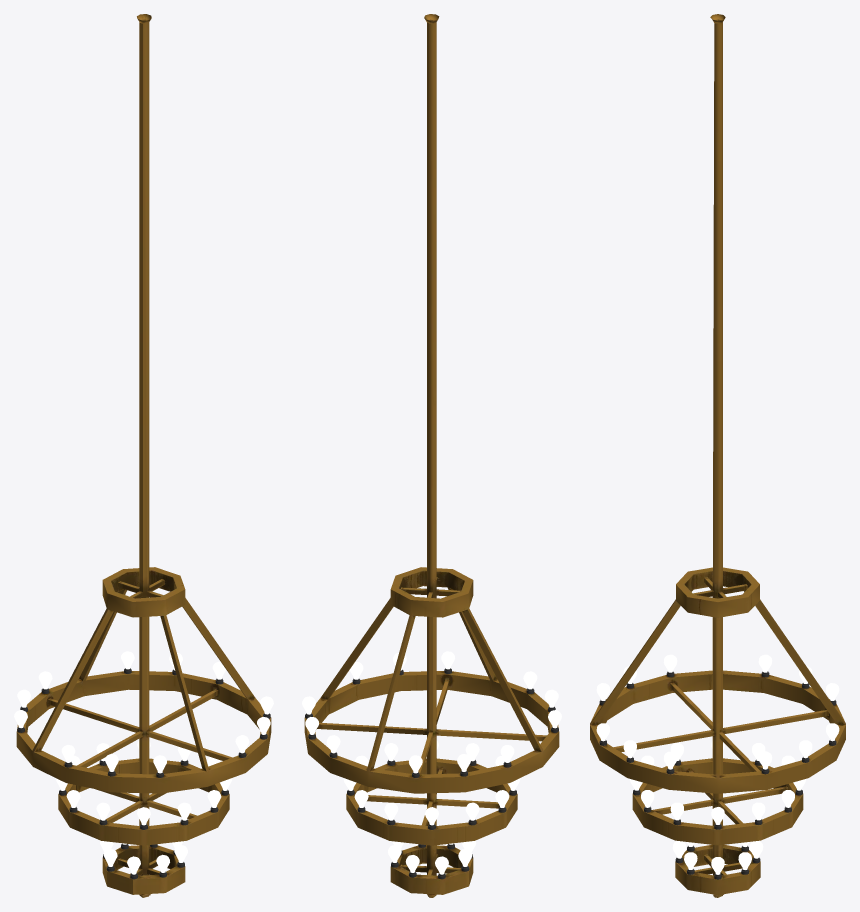
Rendered from ceilinglamp.glb.
3 views of the same model, side by side, from view 1: azimuth 30°, elevation 25°; view 2: azimuth 150°, elevation 25°; view 3: azimuth 270°, elevation 25° (orthographic).
Parts seen in each view (by area): view 1: lampara_techo_low_lamparaTecho-metal_0, lampara_techo_low_lamparaTecho-bombilla_emis_0, lampara_techo_low_lamparaTecho-casquillo_0; view 2: lampara_techo_low_lamparaTecho-metal_0, lampara_techo_low_lamparaTecho-bombilla_emis_0, lampara_techo_low_lamparaTecho-casquillo_0; view 3: lampara_techo_low_lamparaTecho-metal_0, lampara_techo_low_lamparaTecho-bombilla_emis_0, lampara_techo_low_lamparaTecho-casquillo_0.
Boxes of the visible parts, <box> form: lampara_techo_low_lamparaTecho-metal_0: <box>16,14,271,897</box>; lampara_techo_low_lamparaTecho-bombilla_emis_0: <box>14,651,273,874</box>; lampara_techo_low_lamparaTecho-casquillo_0: <box>17,668,270,879</box>; lampara_techo_low_lamparaTecho-metal_0: <box>304,14,559,897</box>; lampara_techo_low_lamparaTecho-bombilla_emis_0: <box>302,651,561,874</box>; lampara_techo_low_lamparaTecho-casquillo_0: <box>305,668,558,879</box>; lampara_techo_low_lamparaTecho-metal_0: <box>590,14,845,897</box>; lampara_techo_low_lamparaTecho-bombilla_emis_0: <box>596,654,839,874</box>; lampara_techo_low_lamparaTecho-casquillo_0: <box>599,671,836,879</box>.
Bounding box in the file's own units: 2.09 × 7.93 × 2.09.
Materials: 3 (1 with a texture image).
